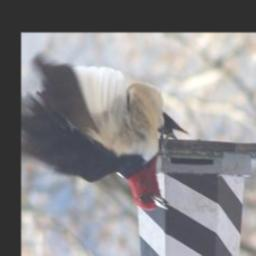Woodpecker: (21, 59, 184, 220)
